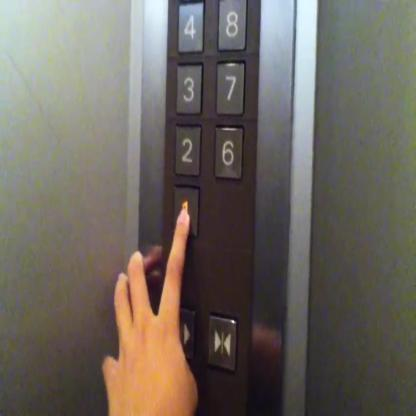2: (172, 122, 202, 178)
3: (174, 61, 204, 117)
4: (175, 0, 205, 55)
6: (211, 123, 244, 181)
7: (213, 58, 246, 119)
8: (215, 0, 248, 54)
close: (206, 311, 238, 373)
